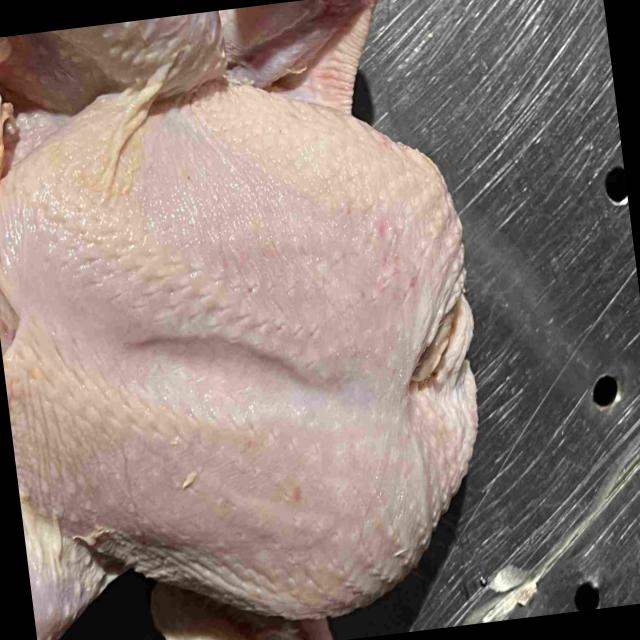breast: (0, 81, 477, 619)
leg: (24, 10, 225, 112), (20, 503, 110, 640)
wing: (220, 0, 376, 111), (151, 584, 333, 640)
